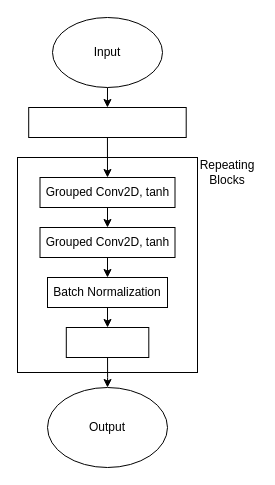
The diagram is 275 pixels wide and 485 high, and some of its shapes have lost their labels. Here are the shapes that lost their labels. From the top down, the box of each, then its label:
(28, 106, 186, 138): Split and Concatenate
(65, 326, 149, 358): Squeeze
